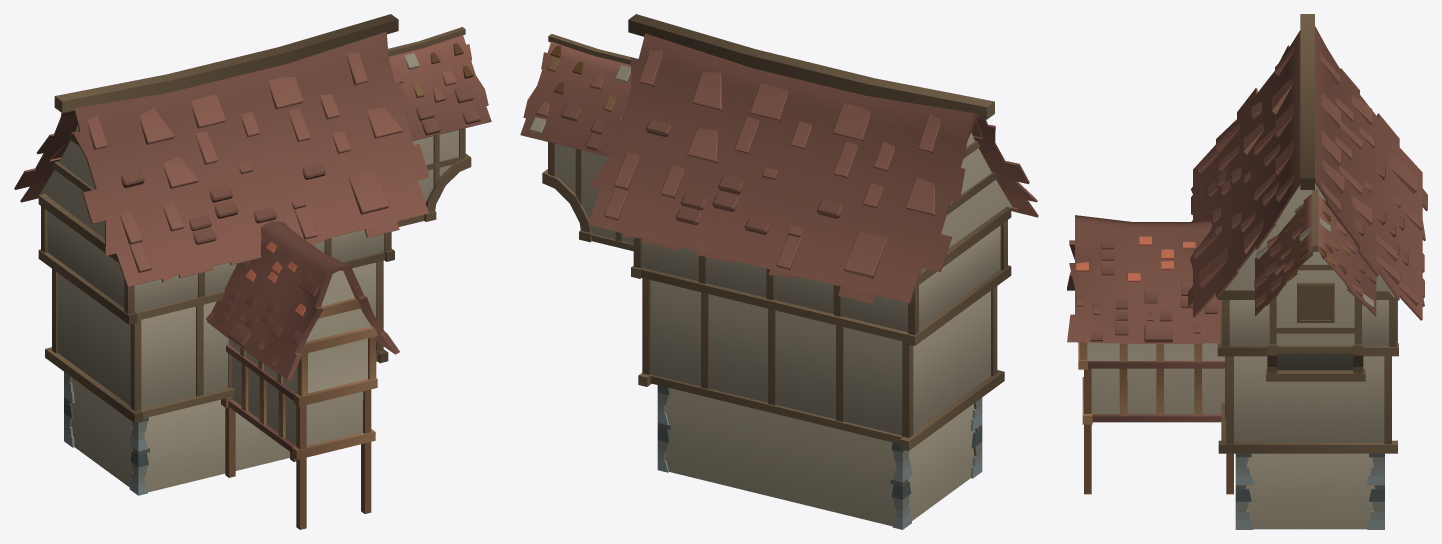
The model's file is ZLP_Build_B_3.FBX.
The picture shows the model from 3 angles, left to right: view 1: azimuth 30°, elevation 25°; view 2: azimuth 150°, elevation 25°; view 3: azimuth 270°, elevation 25°; orthographic projection. The views are drawn at different scales.
Visible parts, largest first — view 1: ZLP_Build_B_3; view 2: ZLP_Build_B_3; view 3: ZLP_Build_B_3.
Boxes of the visible parts, x1,y1,x2,y2 form: ZLP_Build_B_3: (14,14,491,529); ZLP_Build_B_3: (520,14,1038,529); ZLP_Build_B_3: (1067,14,1427,529).
Bounding box in the file's own units: 1143 × 1010 × 864.
